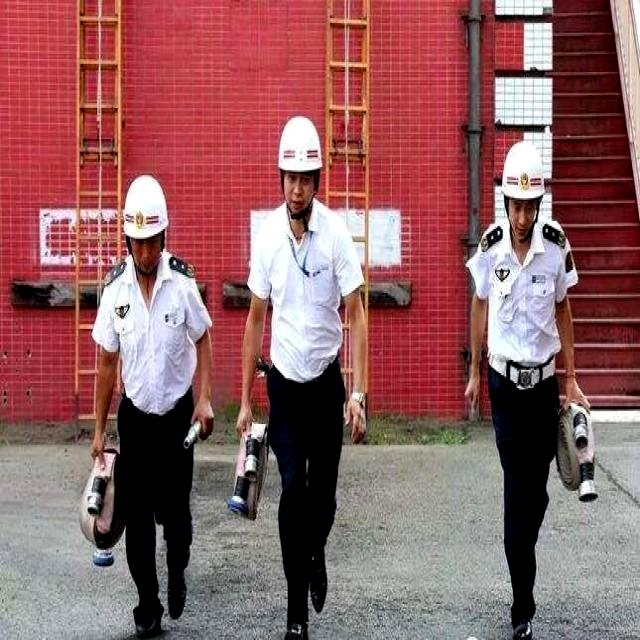Con_Casco: (277, 114, 324, 214), (124, 175, 168, 268)
